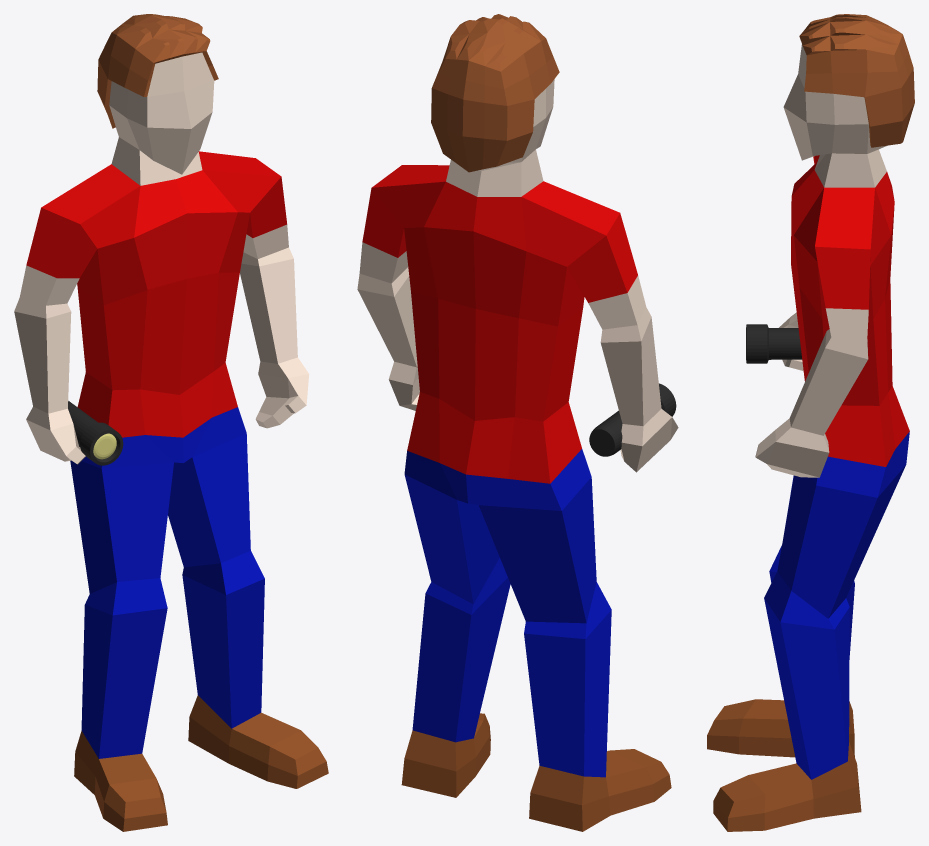
Rendered from Human_grabbing_2.fbx.
The picture shows the model from 3 angles, left to right: view 1: azimuth 30°, elevation 25°; view 2: azimuth 150°, elevation 25°; view 3: azimuth 270°, elevation 25°; orthographic projection. The views are drawn at different scales.
Visible parts, largest first — view 1: Person.003, Cylinder.002; view 2: Person.003, Cylinder.002; view 3: Person.003, Cylinder.002.
Part boxes in pixels (x1,y1,x2,y2): Person.003: (14,14,328,831); Cylinder.002: (68,401,123,465); Person.003: (357,14,678,831); Cylinder.002: (589,383,676,456); Person.003: (707,14,914,831); Cylinder.002: (746,324,802,363).
Bounding box in the file's own units: 0.5865 × 1.58 × 0.3896.
